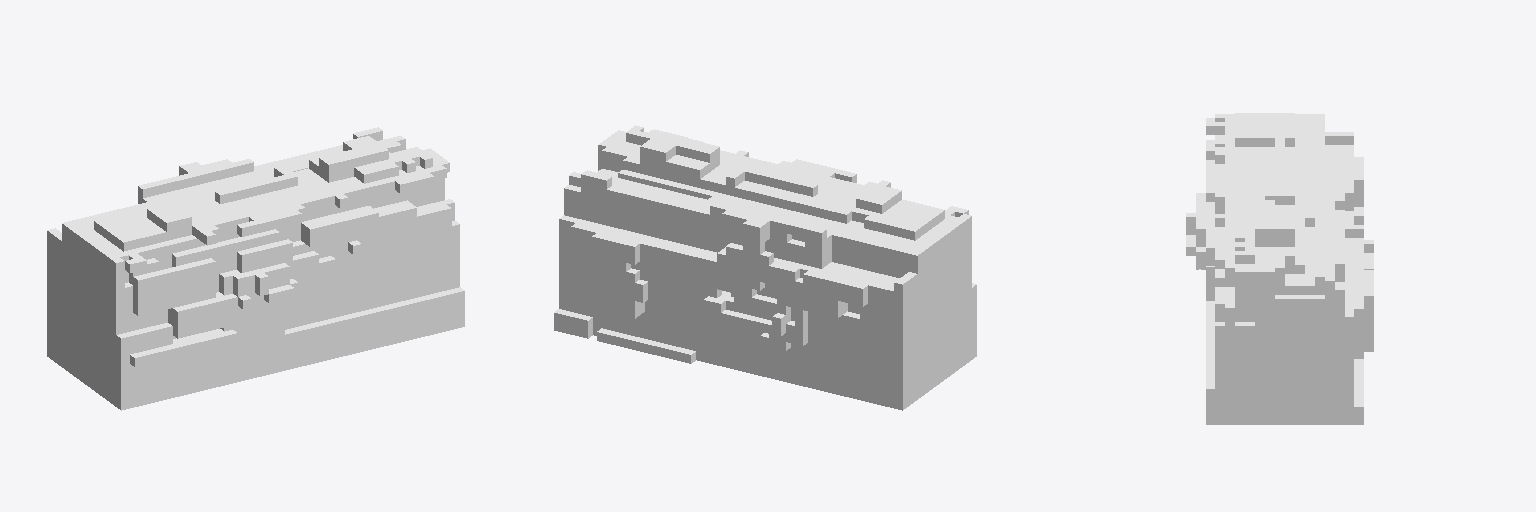
File: snow1.obj
3 renders of one model, left to right at view 1: azimuth 30°, elevation 25°; view 2: azimuth 150°, elevation 25°; view 3: azimuth 270°, elevation 25°, orthographic.
Parts seen in each view (by area): view 1: object 1; view 2: object 1; view 3: object 1.
Part boxes in pixels (x1,y1,x2,y2): object 1: (47, 127, 464, 410); object 1: (554, 125, 976, 410); object 1: (1186, 113, 1373, 424).
Size of the model in its own units: 4 by 1.9 by 1.9.